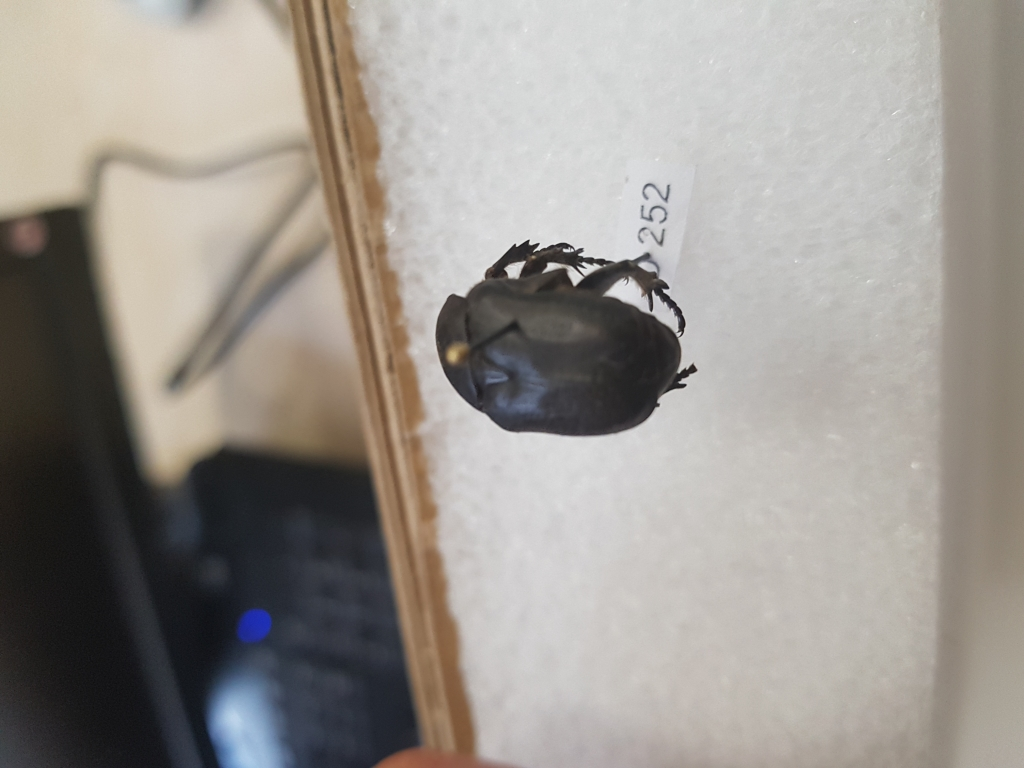Protaetia_vidua: (434, 234, 697, 438)
